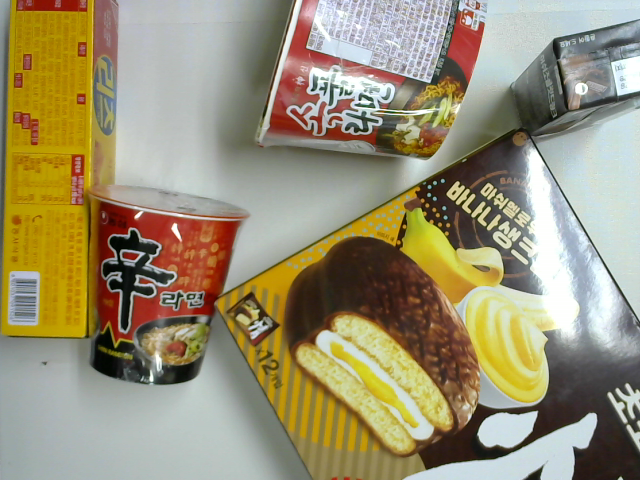Choco_Pie_Banana: (213, 127, 640, 480)
Hejangpul: (253, 1, 490, 161)
Hush_Choco_Drink: (507, 17, 640, 141)
Ritz_Sand_Cracker: (1, 1, 122, 341)
Sinramen_small: (84, 184, 254, 386)
